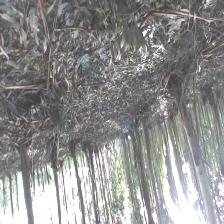trunk: (167, 76, 209, 187), (140, 120, 160, 210), (205, 92, 223, 167), (70, 146, 84, 216), (19, 146, 33, 216), (48, 151, 61, 218)
